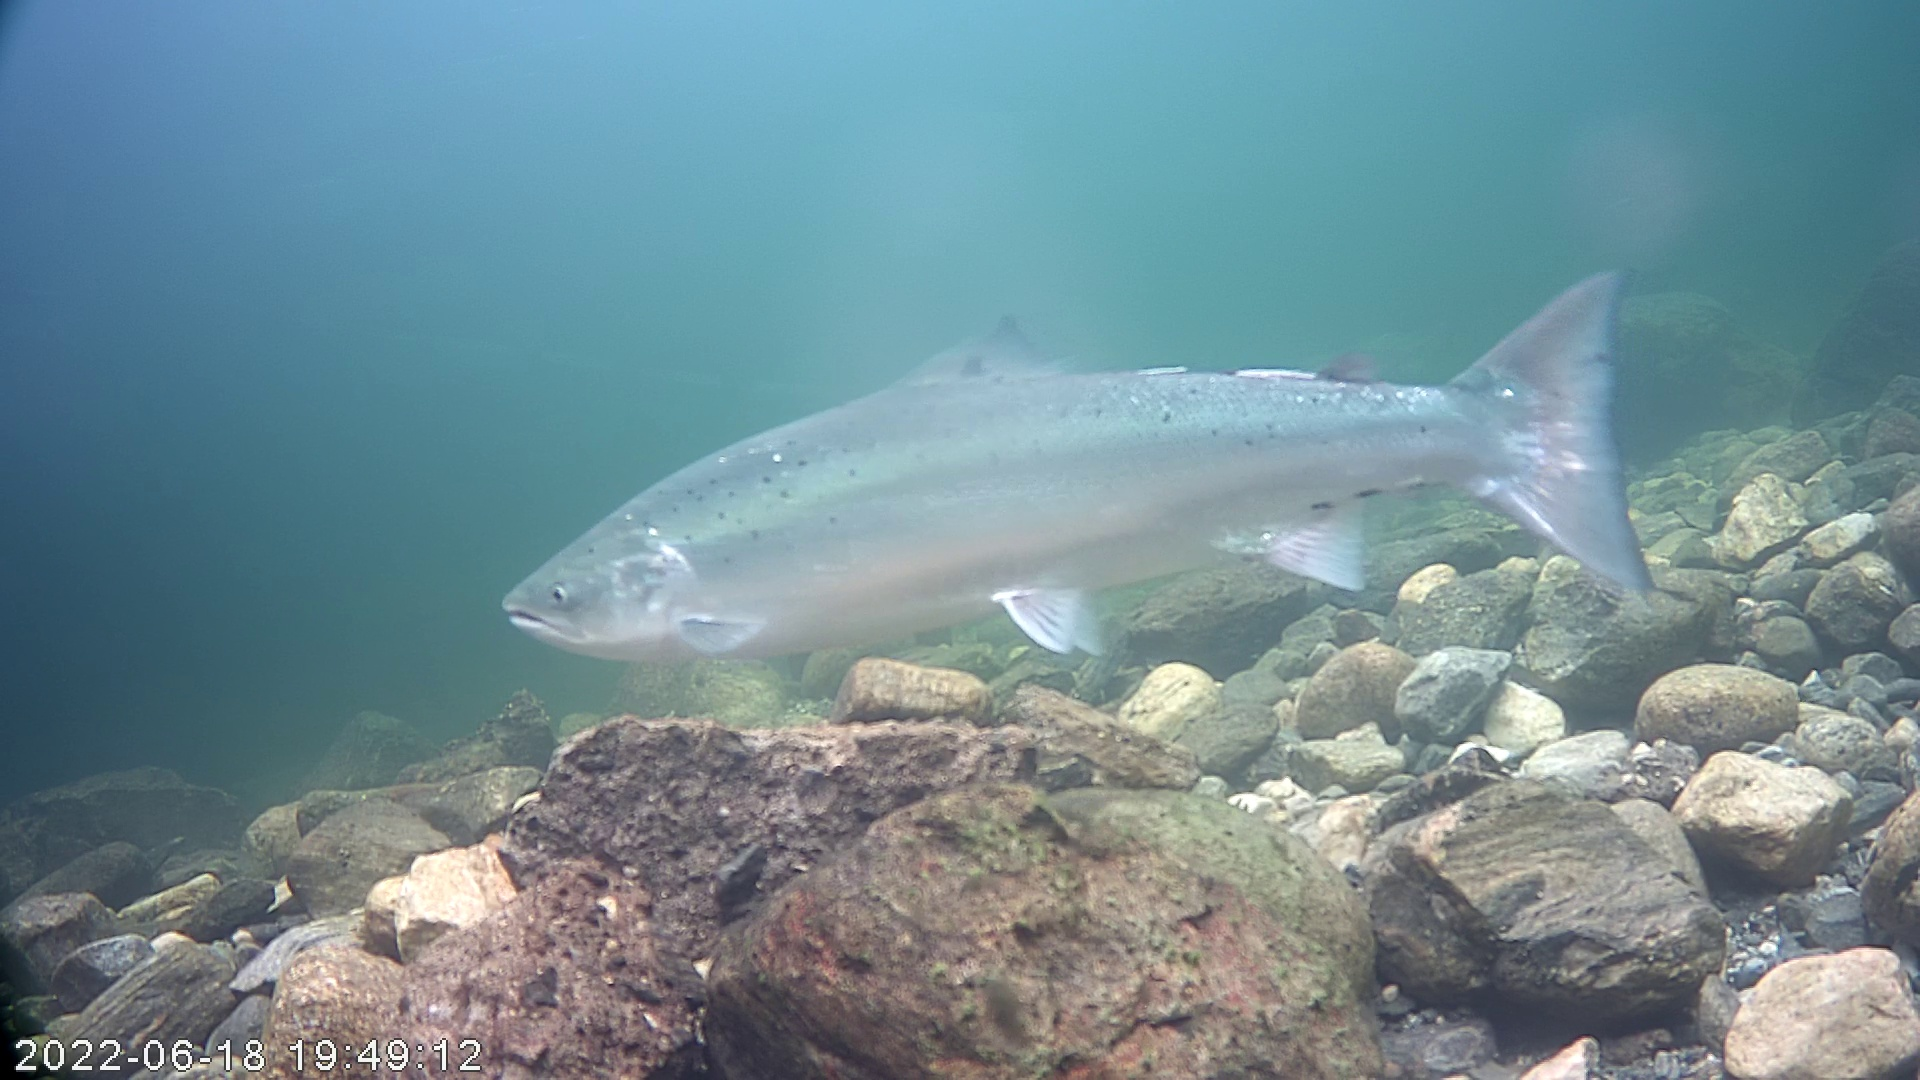salmon: (498, 264, 1658, 665)
